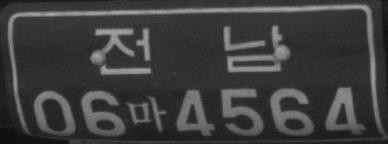0: (32, 89, 77, 135)
4: (324, 87, 366, 134), (175, 88, 215, 135)
5: (220, 88, 264, 136)
6: (79, 88, 126, 138), (269, 86, 315, 136)
마: (127, 96, 167, 132)
전남_D: (95, 25, 284, 75)
